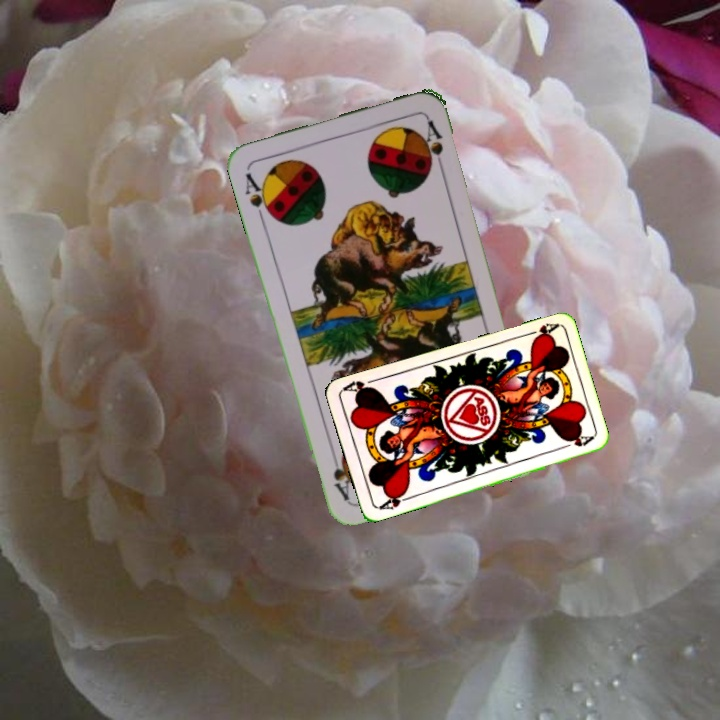HA: (375, 487, 414, 512), (520, 319, 560, 343)
SA: (241, 169, 276, 224)
